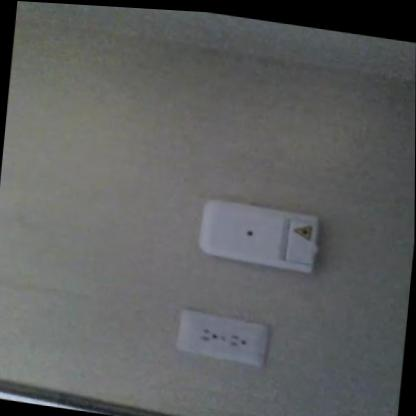OUTLET: (175, 309, 267, 366)
